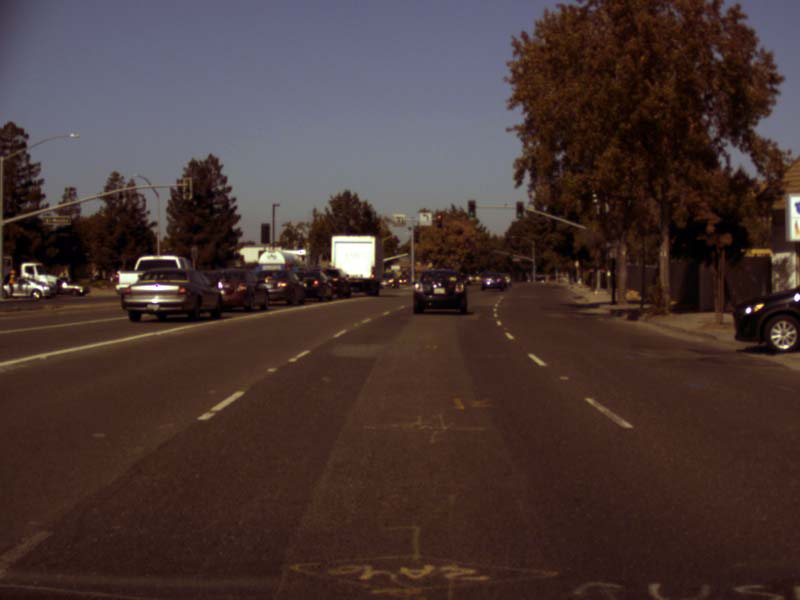Green: (466, 199, 475, 216), (515, 200, 522, 218)
Yellow: (435, 212, 442, 227)
